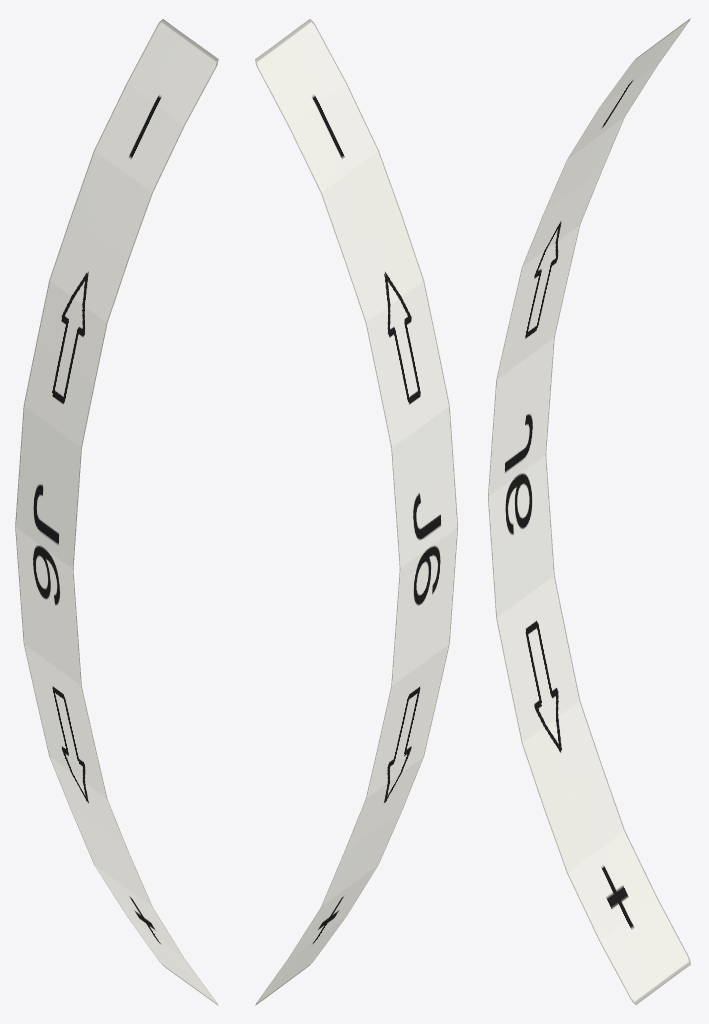
Rendered from J6_sticker_other.glb.
3 renders of one model, left to right at view 1: azimuth 30°, elevation 25°; view 2: azimuth 150°, elevation 25°; view 3: azimuth 330°, elevation 25°, orthographic.
Size of the model in its own units: 0.00571 by 0.035 by 0.004.
Materials: 1 (1 with a texture image).
